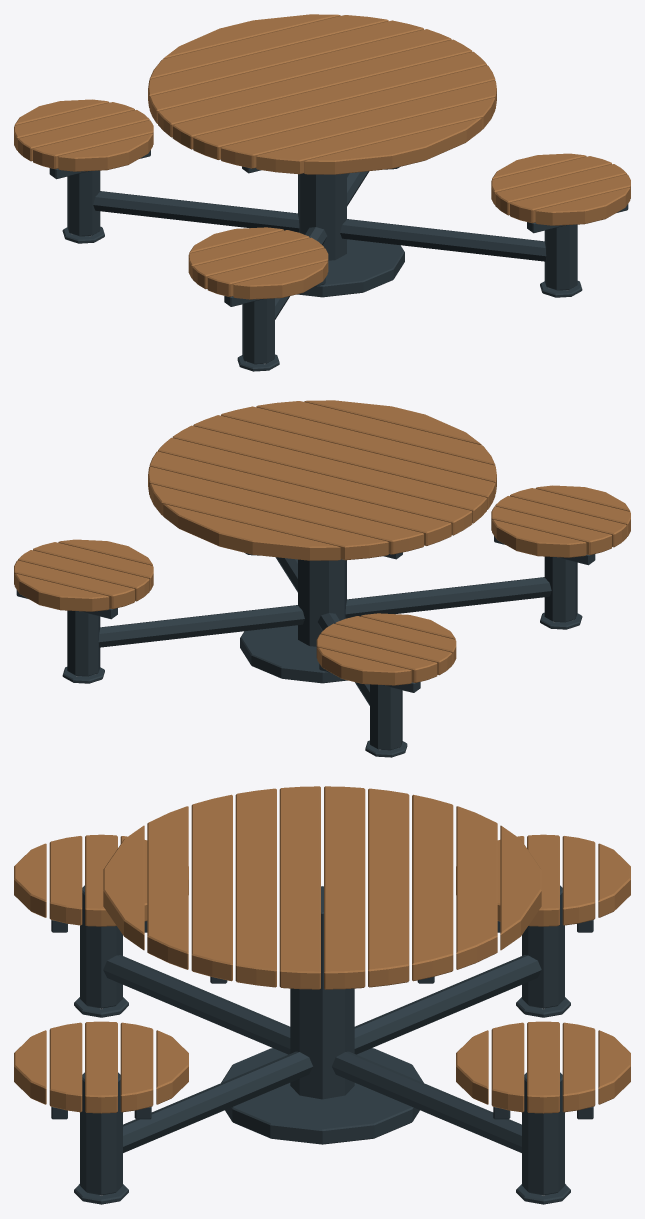
File: b01_round_pedestal_picnic_table.glb
3 views of the same model, one above another, from view 1: azimuth 30°, elevation 25°; view 2: azimuth 150°, elevation 25°; view 3: azimuth 270°, elevation 25° (orthographic). The views are drawn at different scales.
Visible parts, largest first — view 1: b01_round_pedestal_picnic_table; view 2: b01_round_pedestal_picnic_table; view 3: b01_round_pedestal_picnic_table.
Part boxes in pixels (bbox=[...]): b01_round_pedestal_picnic_table: bbox=[14, 14, 630, 371]; b01_round_pedestal_picnic_table: bbox=[14, 400, 630, 757]; b01_round_pedestal_picnic_table: bbox=[14, 786, 630, 1204].
Size of the model in its own units: 2.02 by 0.8 by 2.01.
